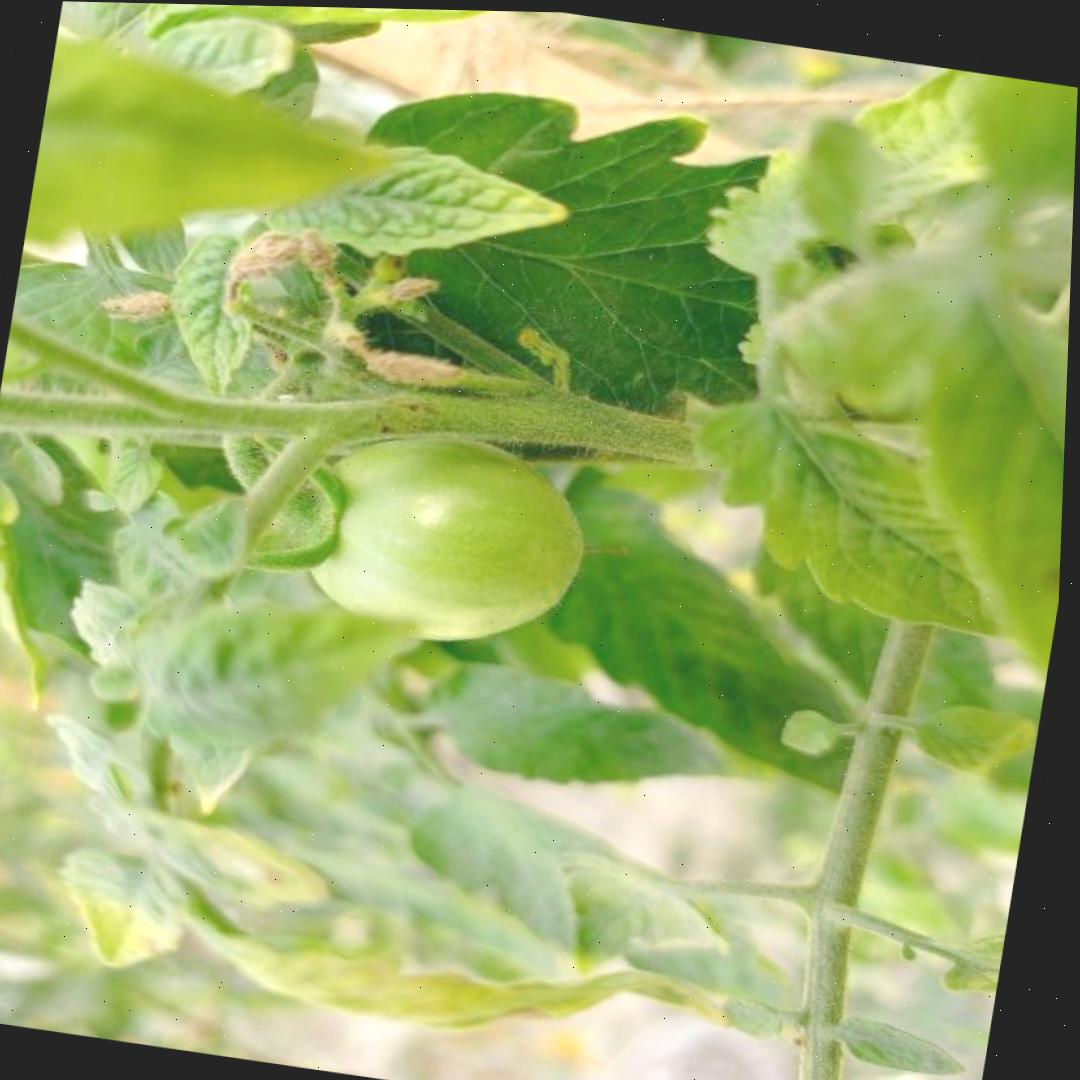mentah: (291, 413, 593, 657)
